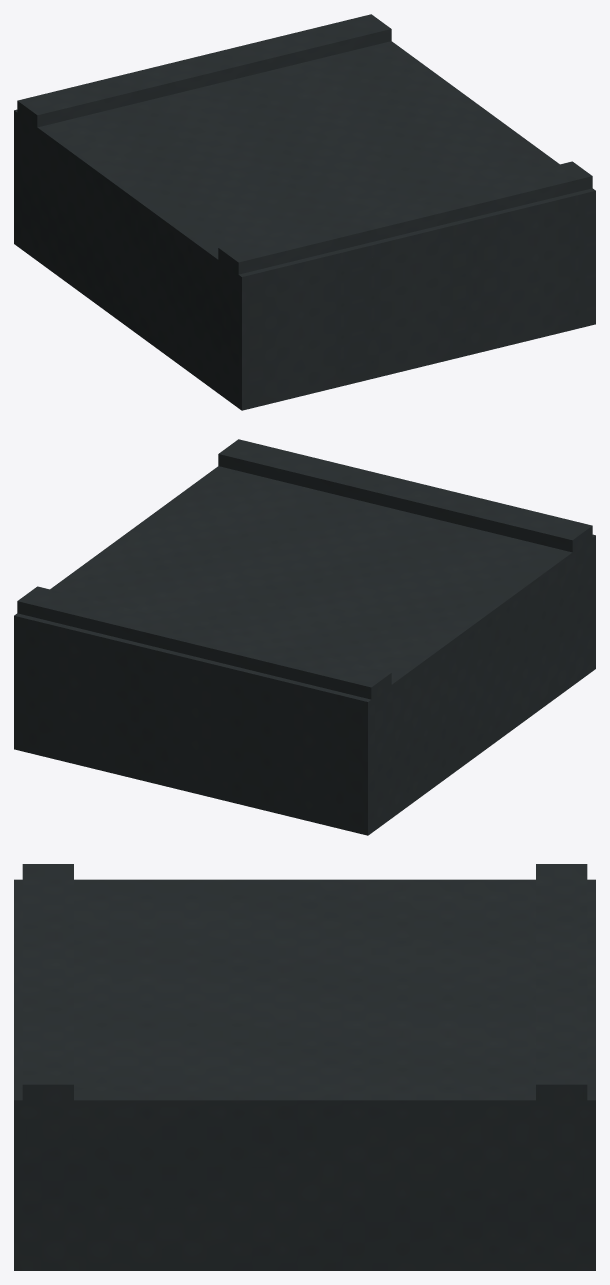
File: m17_mount.glb
3 renders of one model, top to bottom at view 1: azimuth 30°, elevation 25°; view 2: azimuth 150°, elevation 25°; view 3: azimuth 270°, elevation 25°, orthographic. The views are drawn at different scales.
Visible parts, largest first — view 1: mount__m17_mount_LOD1_RAID_Secondary_Original_steel, mount__m17_mount_LOD0_RAID_Secondary_Original_steel; view 2: mount__m17_mount_LOD0_RAID_Secondary_Original_steel, mount__m17_mount_LOD1_RAID_Secondary_Original_steel; view 3: mount__m17_mount_LOD0_RAID_Secondary_Original_steel, mount__m17_mount_LOD1_RAID_Secondary_Original_steel.
Part boxes in pixels (box(x1,y1,x2,y2)): mount__m17_mount_LOD1_RAID_Secondary_Original_steel: box(14, 41, 595, 410); mount__m17_mount_LOD0_RAID_Secondary_Original_steel: box(17, 14, 592, 399); mount__m17_mount_LOD0_RAID_Secondary_Original_steel: box(17, 439, 592, 824); mount__m17_mount_LOD1_RAID_Secondary_Original_steel: box(14, 466, 595, 835); mount__m17_mount_LOD0_RAID_Secondary_Original_steel: box(22, 864, 587, 1264); mount__m17_mount_LOD1_RAID_Secondary_Original_steel: box(14, 879, 595, 1270).
Size of the model in its own units: 0.061 by 0.024 by 0.068.
1 material, 1 textured.
